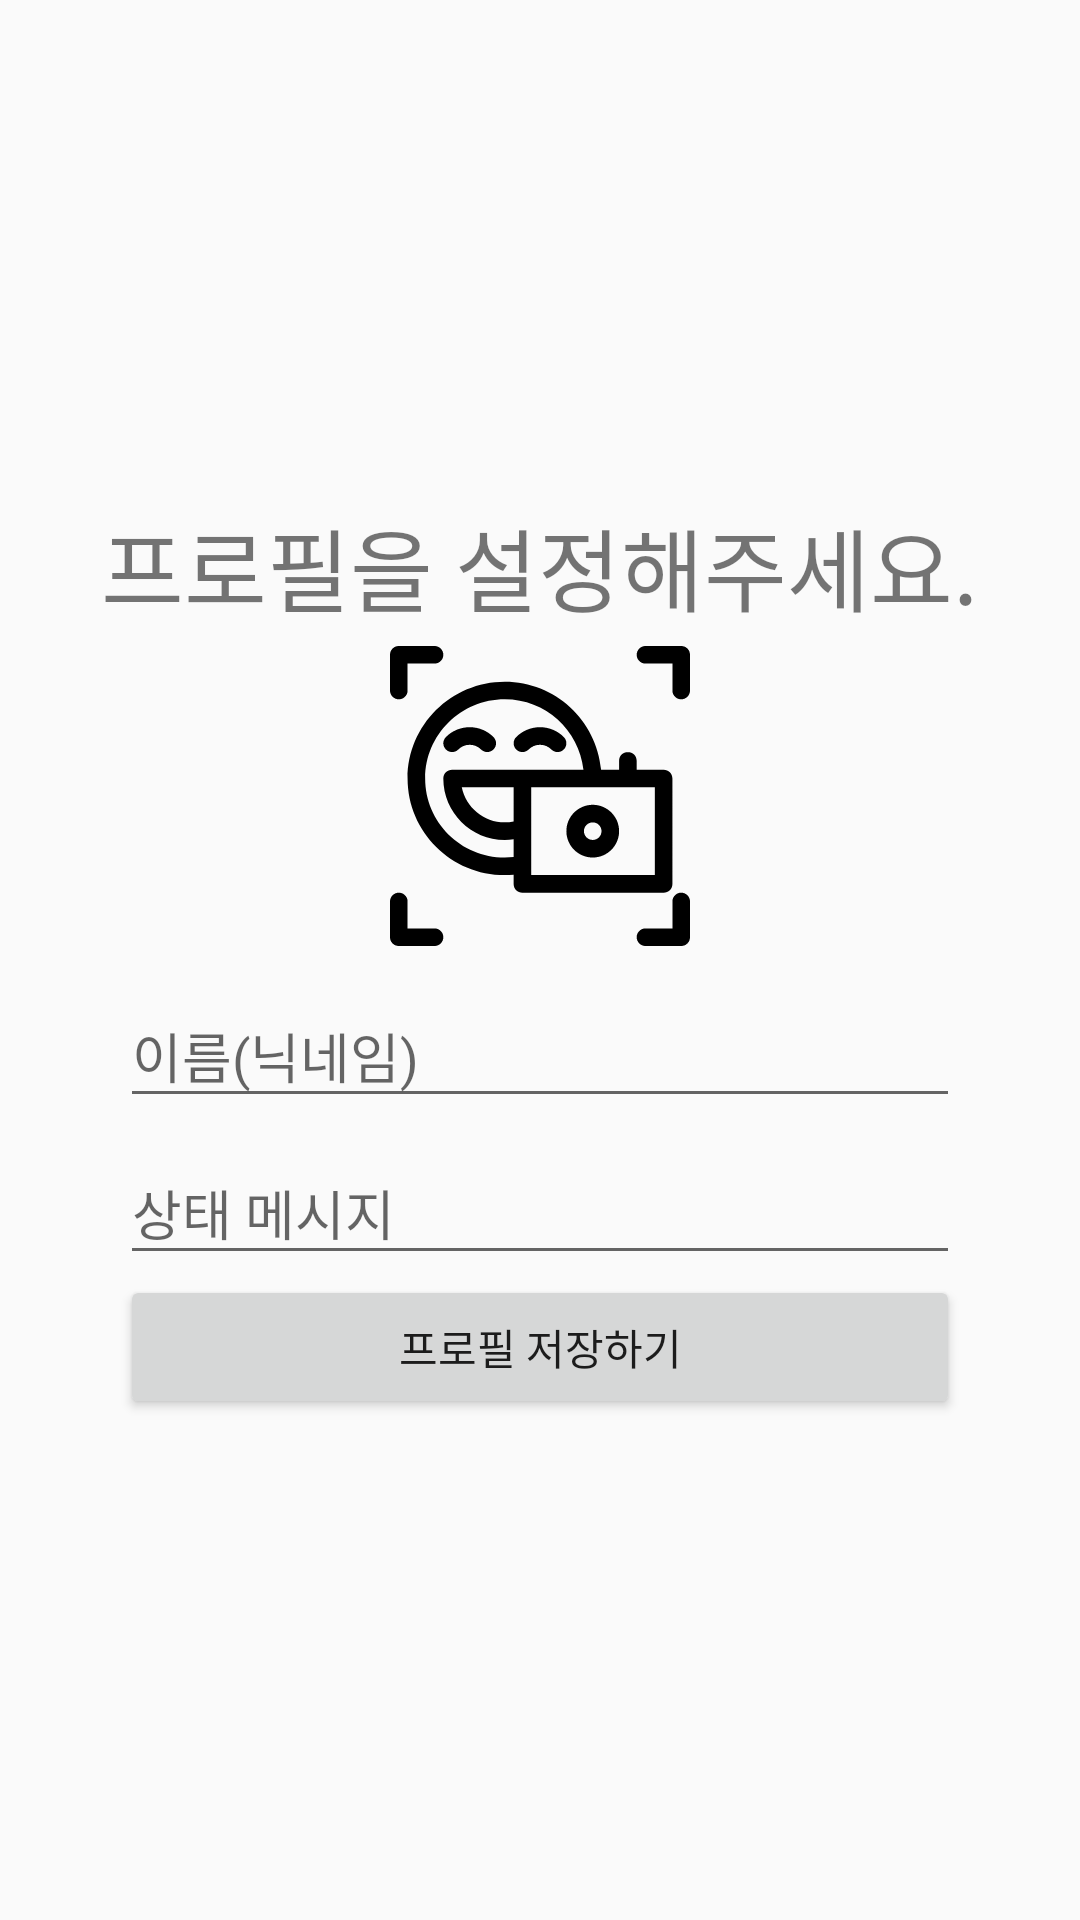

Icon click points for this 1080px×1920px phone screenshot, format point (x, y):
front camera: point (540, 796)
